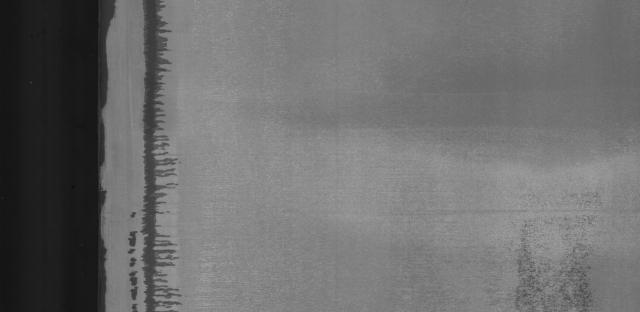oil_spot: (126, 0, 204, 305)
